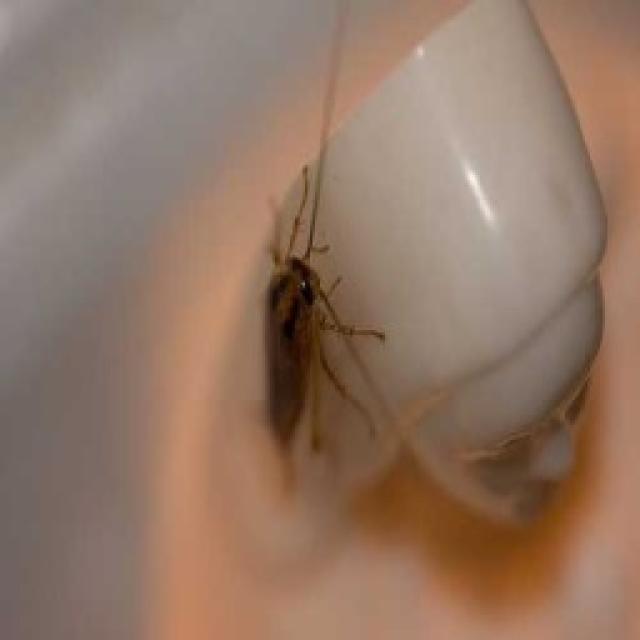cockroach: (220, 186, 352, 507)
